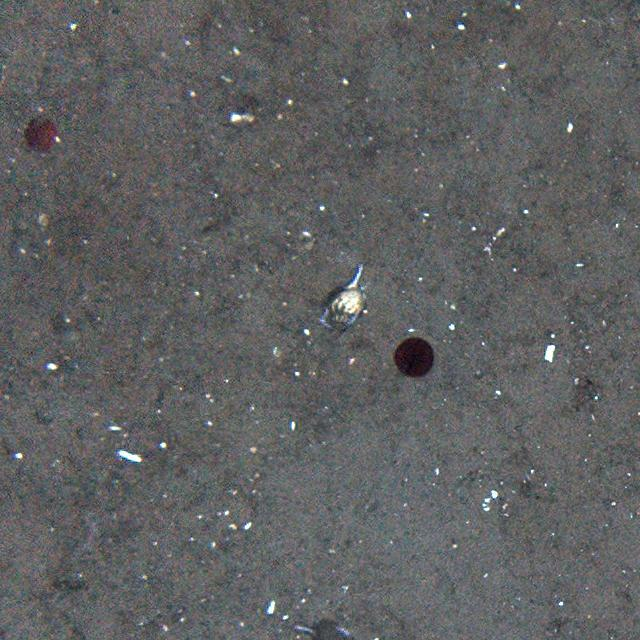whelk: (317, 270, 366, 340)
